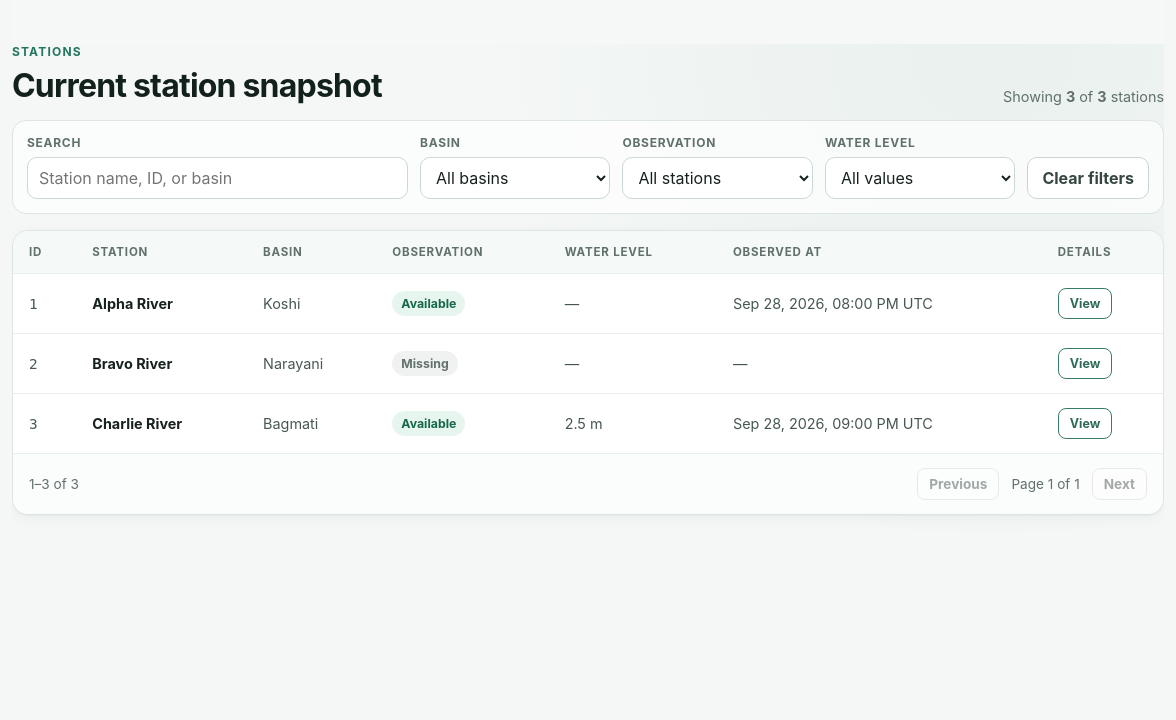
Test: StationTable › filters stations with missing water levels correctly
The image size is (1176, 720).
Expected: the text "Alpha River" is shown, [92,295,173,312]
Select "Missing" in the dropdown labelled "Water level" at {"x": 920, "y": 178}, box [825,157,1015,199]
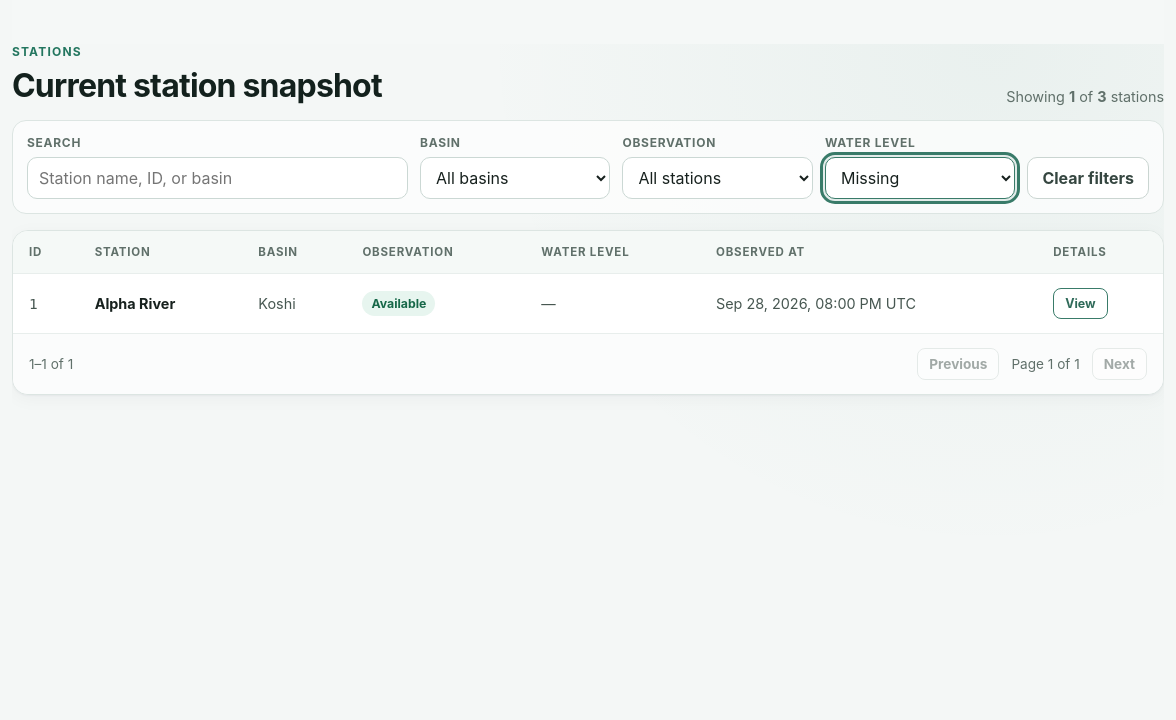
Expected: the text "Alpha River" is shown, [95,295,175,312]
Now the text "Bravo River" is gone
Now the text "Charlie River" is gone
